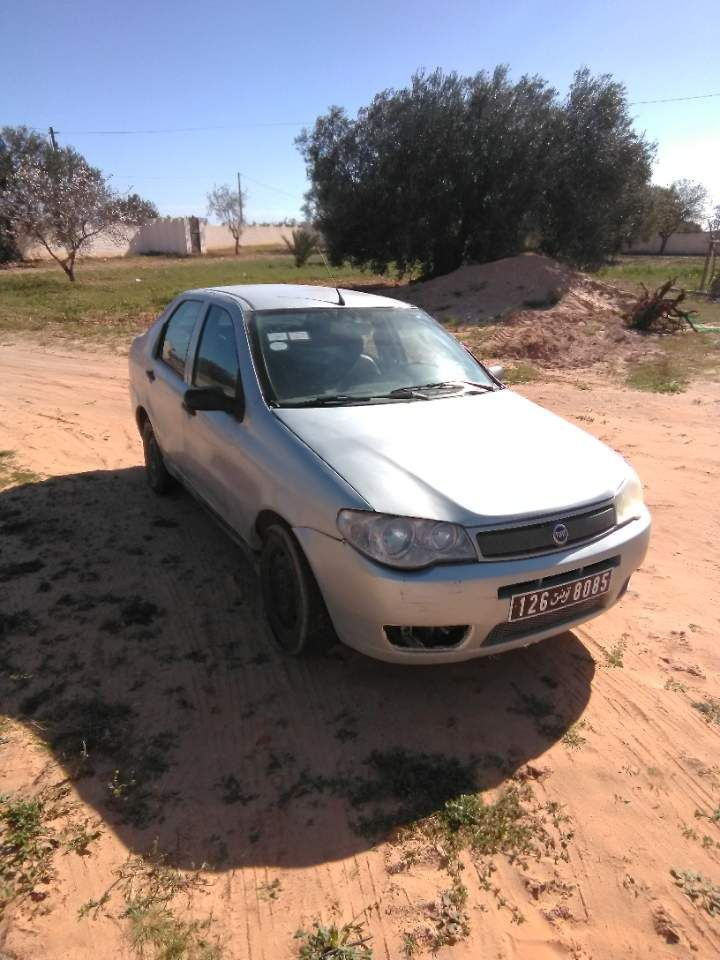LP: (505, 567, 613, 622)
